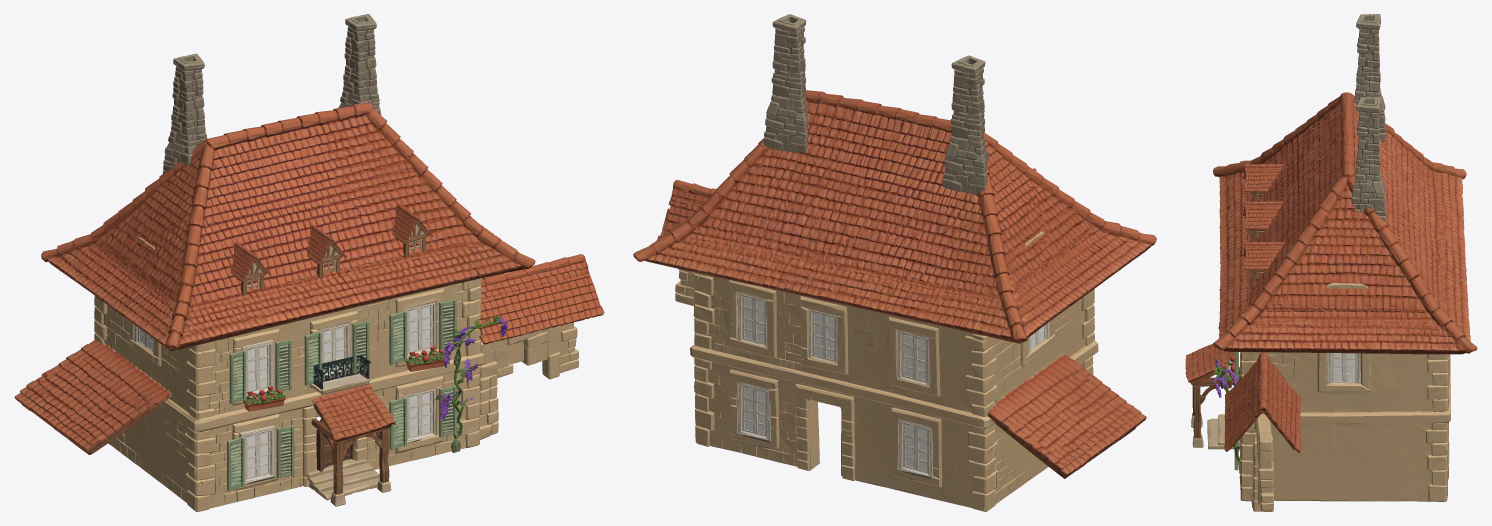
Rendered from maison-kit.glb.
3 renders of one model, left to right at view 1: azimuth 30°, elevation 25°; view 2: azimuth 150°, elevation 25°; view 3: azimuth 270°, elevation 25°, orthographic. The views are drawn at different scales.
Parts seen in each view (by area): view 1: toit-maison_1, murs-maison_0, toit-aile_37, porche_26, arche-pierre-aile_36, cheminee_34, cheminee_35, glycine_30, marches_25, fenetre_2, balcon_27, fenetre_5 (+19 smaller); view 2: toit-maison_1, murs-maison_0, cheminee_34, cheminee_35, fenetre_7, fenetre_10, fenetre_8, toit-aile_37, fenetre_11, fenetre_9, arche-pierre-aile_36; view 3: toit-maison_1, murs-maison_0, toit-aile_37, cheminee_35, cheminee_34, porche_26, arche-pierre-aile_36, fenetre_12, lucarne_33, lucarne_32, lucarne_31, marches_25 (+1 smaller).
Boxes of the visible parts, x1,y1,x2,y2 form: toit-maison_1: (41, 102, 535, 351); murs-maison_0: (14, 237, 484, 511); toit-aile_37: (477, 254, 604, 344); porche_26: (311, 383, 395, 506); arche-pierre-aile_36: (479, 322, 578, 439); cheminee_34: (163, 53, 207, 173); cheminee_35: (337, 14, 381, 115); glycine_30: (435, 315, 508, 452); marches_25: (306, 459, 379, 500); fenetre_2: (238, 425, 274, 484); balcon_27: (311, 355, 370, 394); fenetre_5: (405, 389, 435, 443); toit-maison_1: (633, 90, 1156, 343); murs-maison_0: (690, 231, 1146, 511); cheminee_34: (942, 55, 988, 194); cheminee_35: (763, 14, 808, 153); fenetre_7: (897, 419, 933, 478); fenetre_10: (736, 382, 771, 442); fenetre_8: (897, 330, 930, 385); toit-aile_37: (657, 180, 715, 239); fenetre_11: (736, 293, 767, 347); fenetre_9: (807, 309, 838, 363); arche-pierre-aile_36: (675, 269, 694, 305); toit-maison_1: (1213, 92, 1477, 354); murs-maison_0: (1239, 282, 1450, 502); toit-aile_37: (1224, 352, 1300, 452); cheminee_35: (1351, 97, 1385, 222); cheminee_34: (1354, 14, 1385, 141); porche_26: (1185, 344, 1234, 447); arche-pierre-aile_36: (1251, 413, 1274, 511); fenetre_12: (1327, 353, 1360, 384); lucarne_33: (1243, 241, 1285, 284); lucarne_32: (1243, 201, 1283, 241); lucarne_31: (1243, 164, 1284, 201); marches_25: (1207, 414, 1240, 449).
Bounding box in the file's own units: 18.32 × 14.42 × 10.05.
Materials: 1 (1 with a texture image).
